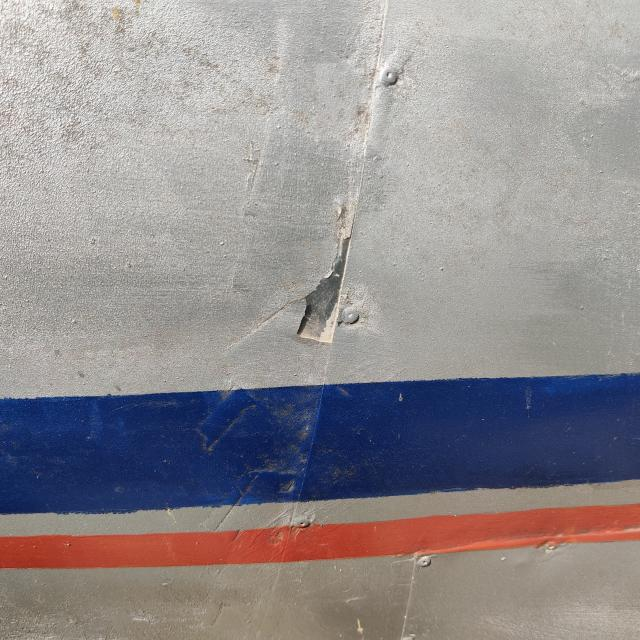paint-off: (258, 209, 399, 373)
